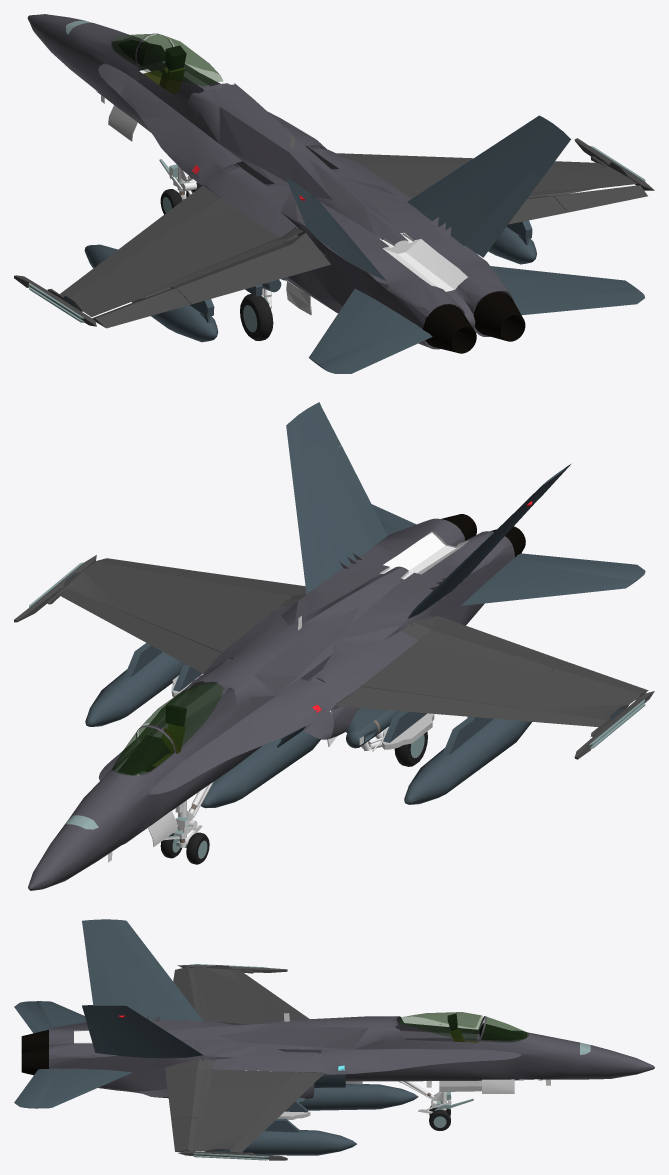
Rendered from fliter2.obj.
3 renders of one model, top to bottom at view 1: azimuth 30°, elevation 25°; view 2: azimuth 150°, elevation 25°; view 3: azimuth 270°, elevation 25°, orthographic. The views are drawn at different scales.
Parts seen in each view (by area): view 1: HornFuse, HornWing, HornEsta, HornRudd, HornLfla, HornNozz, HornLfue, HornLfl2, HornCono, HornFus2, HornLRud, HornRrud (+13 smaller); view 2: HornFuse, HornWing, HornLfue, HornRudd, HornEsta, HornLfl2, HornRfl3, HornCono, HornLfla, HornWsup, HornLRud, HornCon2 (+12 smaller); view 3: HornFuse, HornWing, HornRudd, HornLfue, HornEsta, HornRRud, HornRfla, HornRfl3, HornCono, HornNozz, HornEvt, HornLrud (+10 smaller).
Boxes of the visible parts, x1,y1,x2,y2 form: HornFuse: (27, 14, 513, 349); HornWing: (14, 138, 654, 326); HornEsta: (308, 266, 644, 373); HornRudd: (319, 115, 570, 245); HornLfla: (170, 233, 330, 304); HornNozz: (423, 292, 525, 353); HornLfue: (84, 185, 536, 342); HornLfl2: (60, 185, 220, 297); HornCono: (138, 34, 222, 86); HornFus2: (114, 69, 468, 291); HornLRud: (286, 177, 367, 272); HornRrud: (464, 170, 541, 257); HornFuse: (28, 518, 514, 890); HornWing: (14, 555, 654, 759); HornLfue: (85, 652, 531, 808); HornRudd: (286, 402, 533, 618); HornEsta: (371, 504, 645, 605); HornLfl2: (335, 686, 606, 726); HornRfl3: (60, 588, 221, 673); HornCono: (139, 682, 223, 748); HornLfla: (411, 616, 567, 671); HornWsup: (124, 643, 493, 754); HornLRud: (408, 463, 571, 618); HornCon2: (112, 727, 173, 775); HornFuse: (49, 1015, 654, 1099); HornWing: (177, 964, 293, 1160); HornRudd: (82, 919, 203, 1021); HornLfue: (203, 1084, 418, 1155); HornEsta: (14, 1001, 132, 1108); HornRRud: (82, 1004, 203, 1057); HornRfla: (165, 1058, 204, 1119); HornRfl3: (231, 1072, 323, 1152); HornCono: (399, 1012, 482, 1040); HornNozz: (21, 1029, 48, 1075); HornEvt: (398, 1079, 514, 1099); HornLrud: (86, 953, 113, 1004).
Size of the model in its own units: 7373 by 2972 by 10527.
